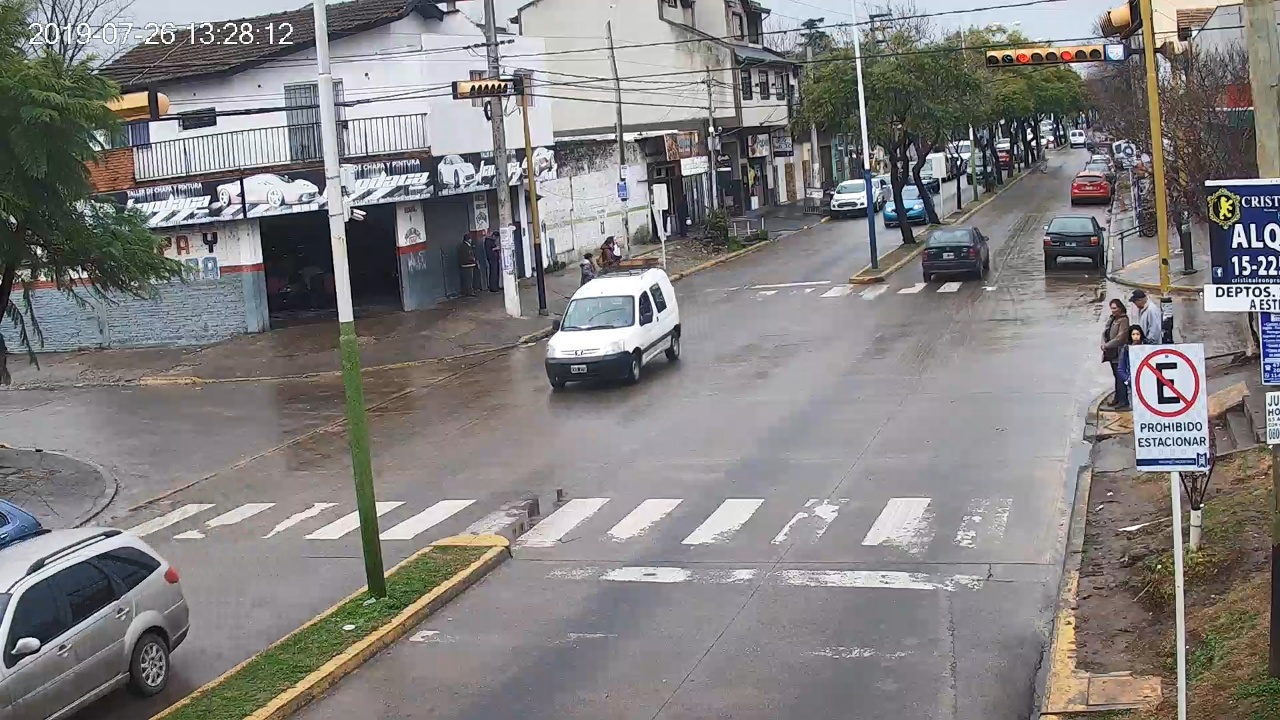car: (923, 226, 990, 283), (1043, 216, 1105, 271)
front car: (545, 268, 681, 389)
traffic light: (1016, 49, 1102, 62)
